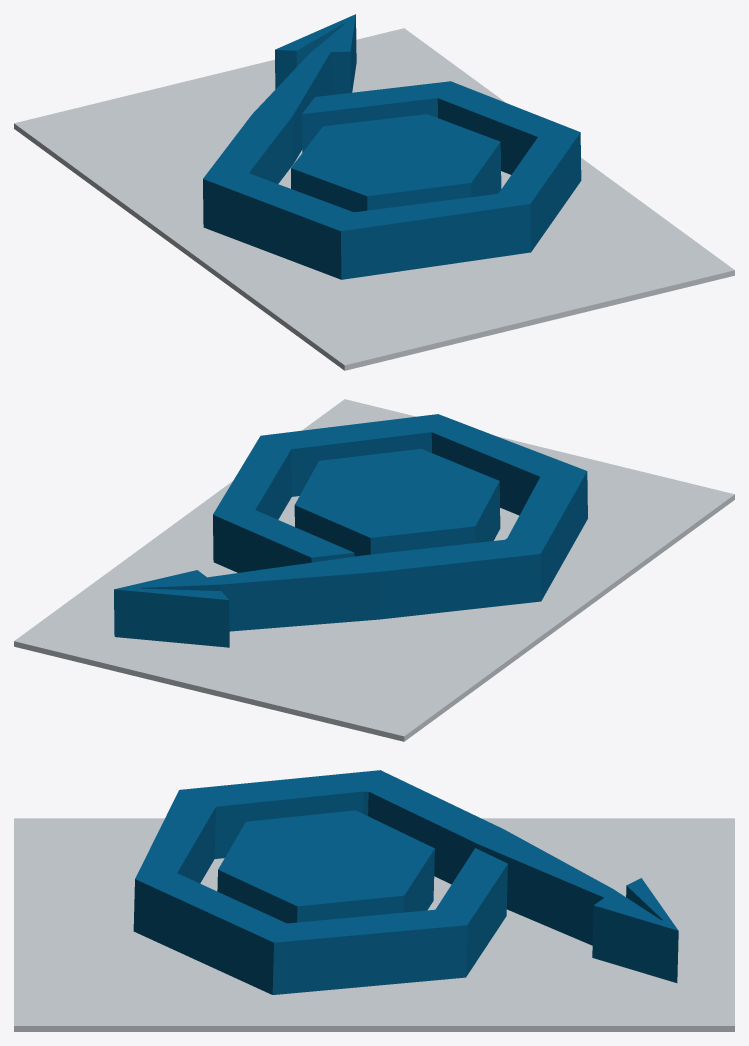
Rendered from Vslet4.gltf.
3 renders of one model, top to bottom at view 1: azimuth 30°, elevation 25°; view 2: azimuth 150°, elevation 25°; view 3: azimuth 270°, elevation 25°, orthographic. The views are drawn at different scales.
Visible parts, largest first — view 1: root; view 2: root; view 3: root.
Boxes of the visible parts, x1,y1,x2,y2 form: root: (14,14,734,370); root: (14,399,734,741); root: (14,770,734,1031).
Size of the model in its own units: 0.478 by 0.079 by 0.7017.
